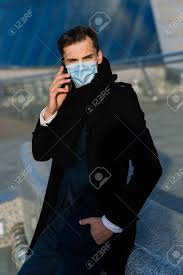with-mask: (56, 25, 110, 91)
